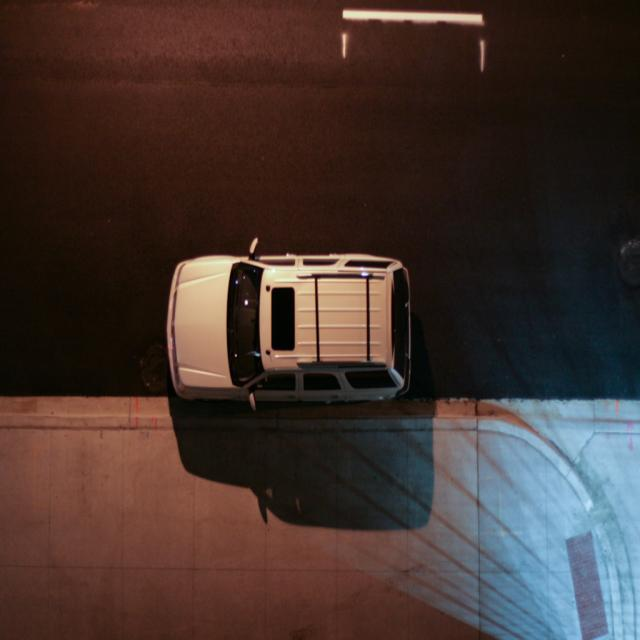car: (167, 245, 420, 443)
